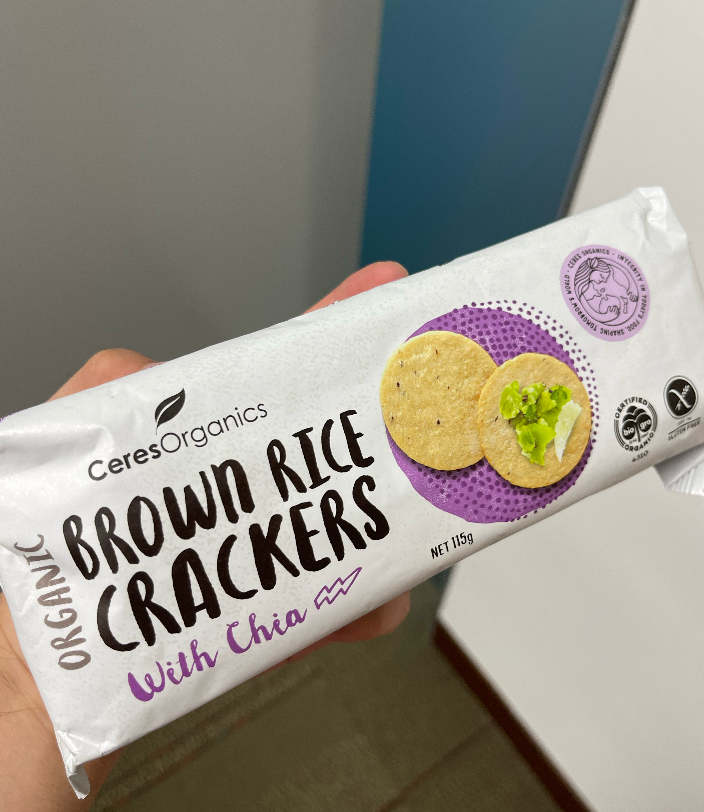crackers_100g-199g: (51, 324, 562, 630)
